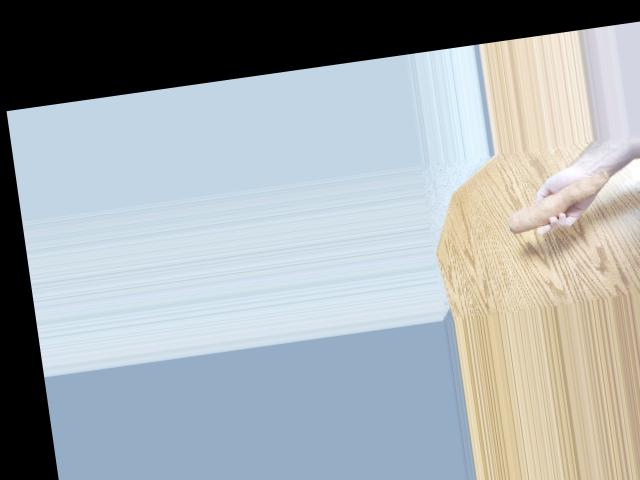sweet_potato: (500, 166, 616, 236)
